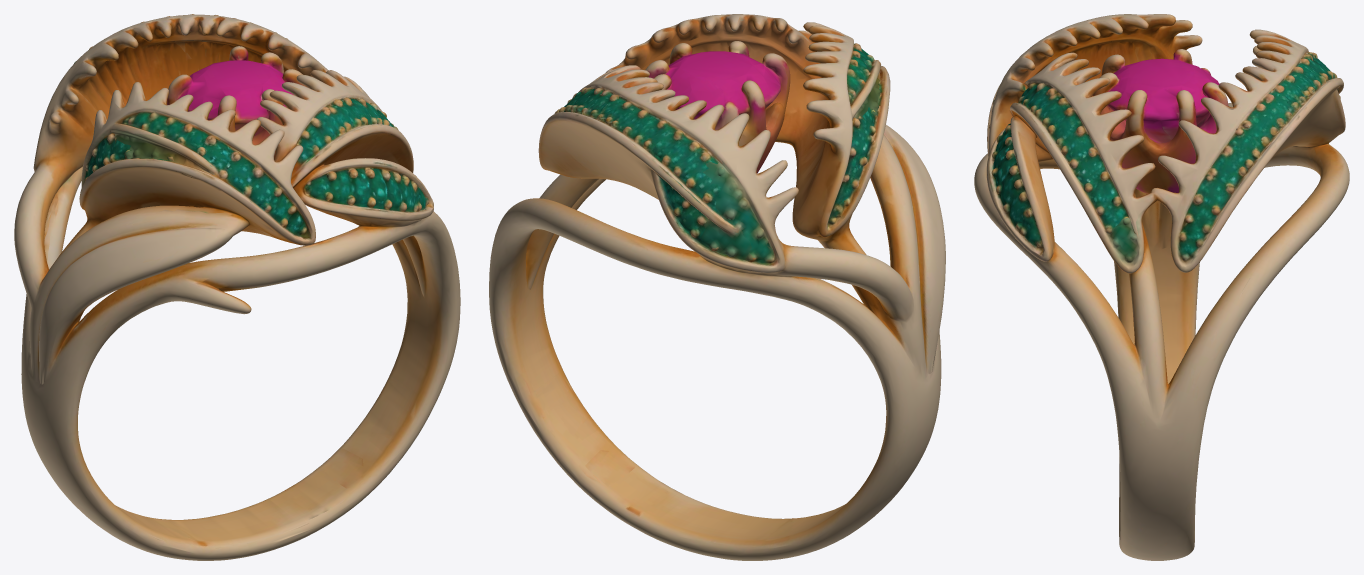
The model's file is gold_ring.glb.
3 renders of one model, left to right at view 1: azimuth 30°, elevation 25°; view 2: azimuth 150°, elevation 25°; view 3: azimuth 270°, elevation 25°, orthographic. The views are drawn at different scales.
Parts seen in each view (by area): view 1: material; view 2: material; view 3: material.
Part boxes in pixels (x1=…): material: x1=14, y1=14, x2=460, y2=560; material: x1=489, y1=14, x2=945, y2=560; material: x1=974, y1=14, x2=1349, y2=560.
Bounding box in the file's own units: 0.9633 × 1.08 × 0.7702.
Materials: 1 (1 with a texture image).
